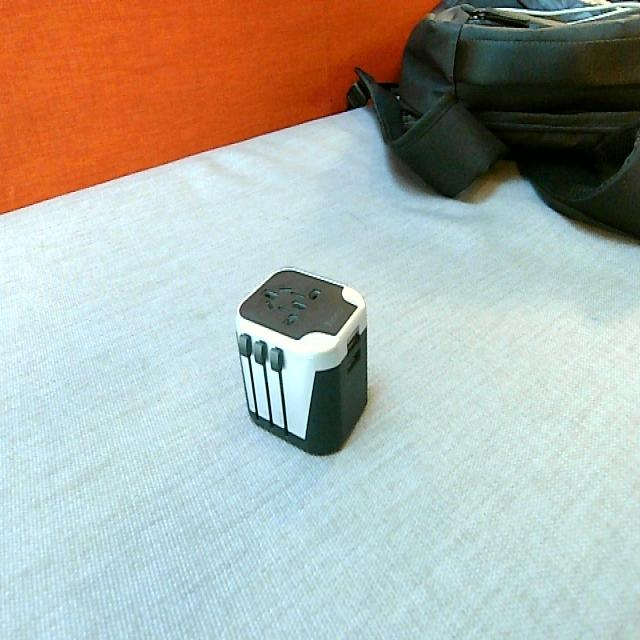adapter: (234, 265, 368, 456)
